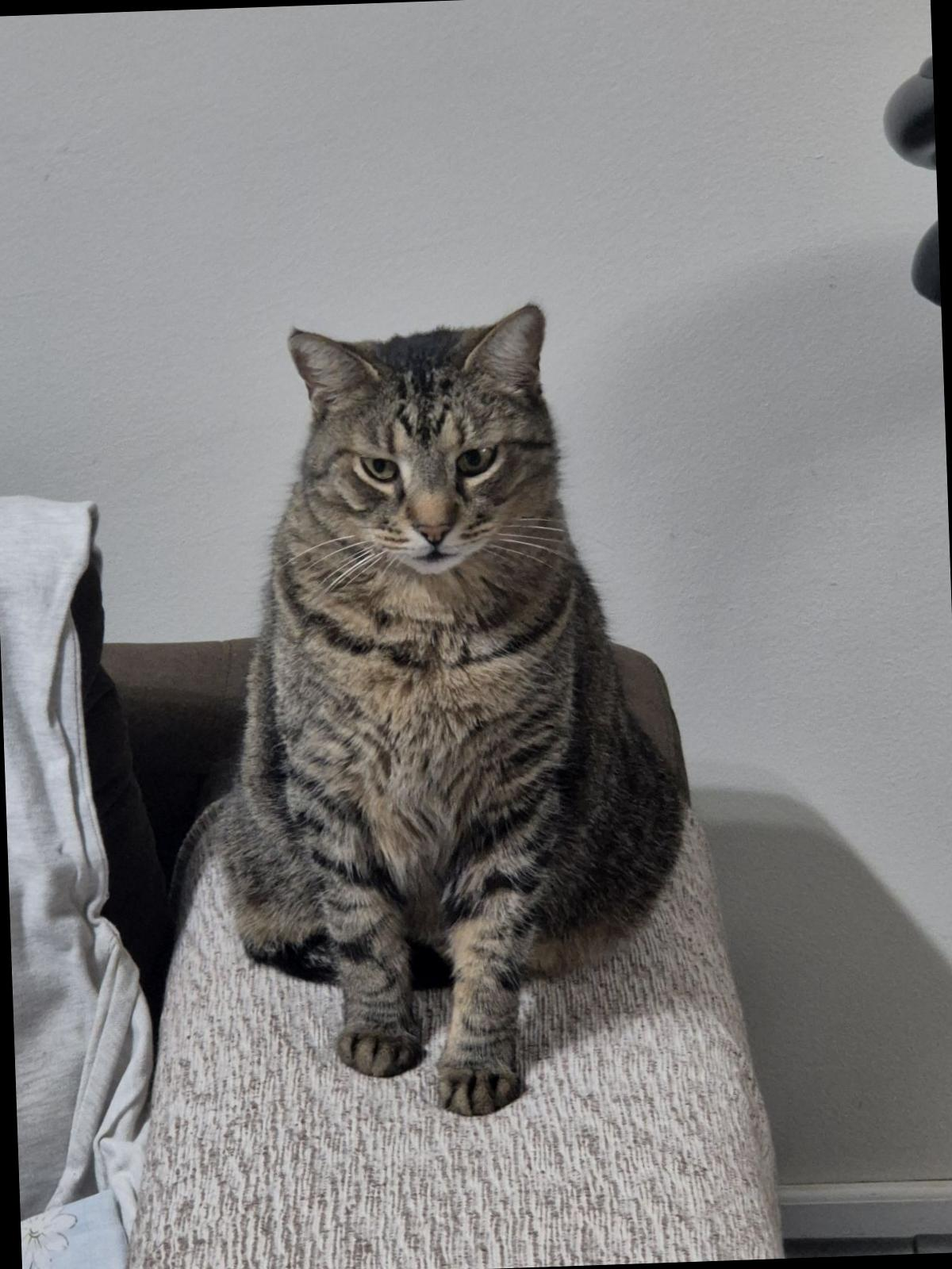macka: (207, 298, 699, 1128)
